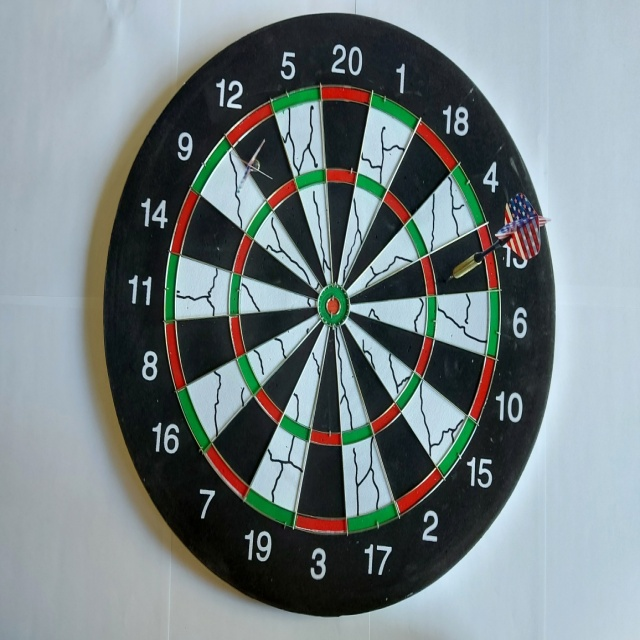Dart: (442, 188, 555, 288), (215, 133, 281, 199)
